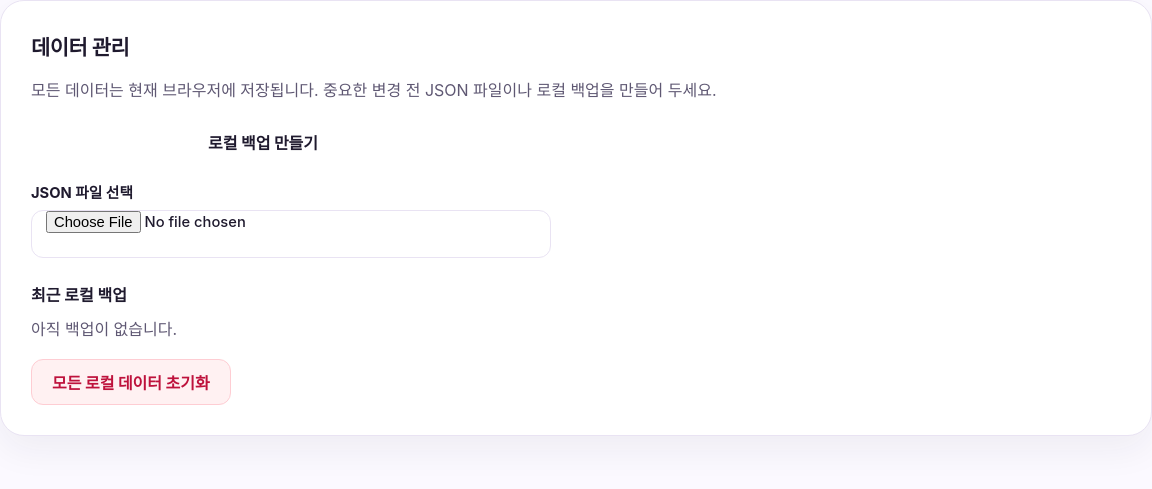
Test: 데이터 관리 실패 안내 › 저장공간 부족으로 백업하지 못하면 정리 방법을 안내한다
The image size is (1152, 489).
Click the button "로컬 백업 만들기" at point(263, 142), box [188,119,338,165]
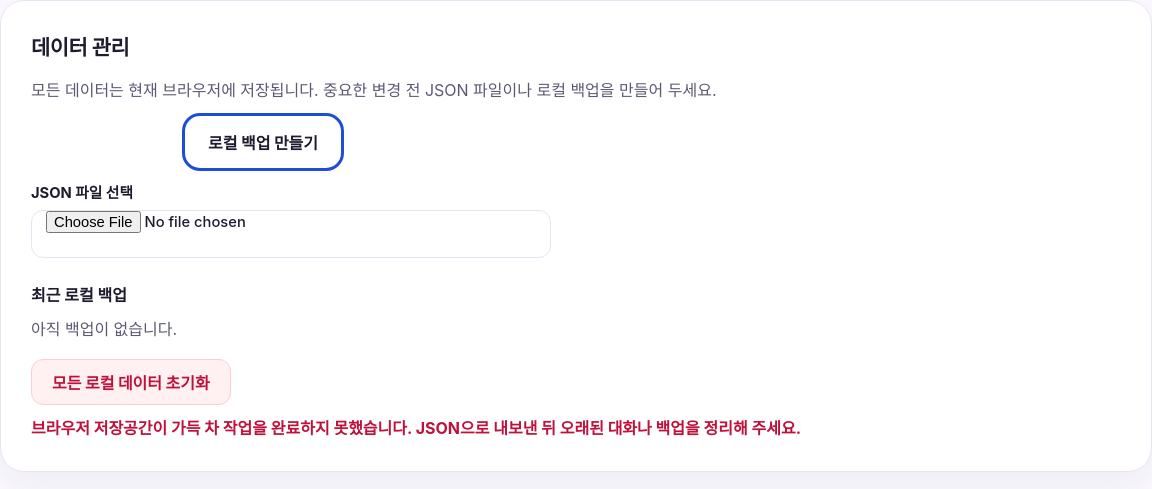
Check: the message shows "브라우저 저장공간이 가득 차 작업을 완료하지 못했습니다.", box [31,418,801,438]
